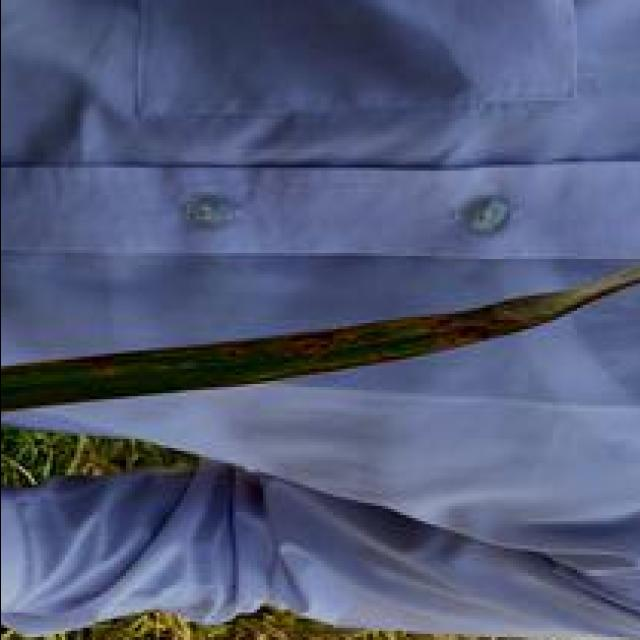Bacterial_Leaf_Blight: (140, 277, 634, 387)
